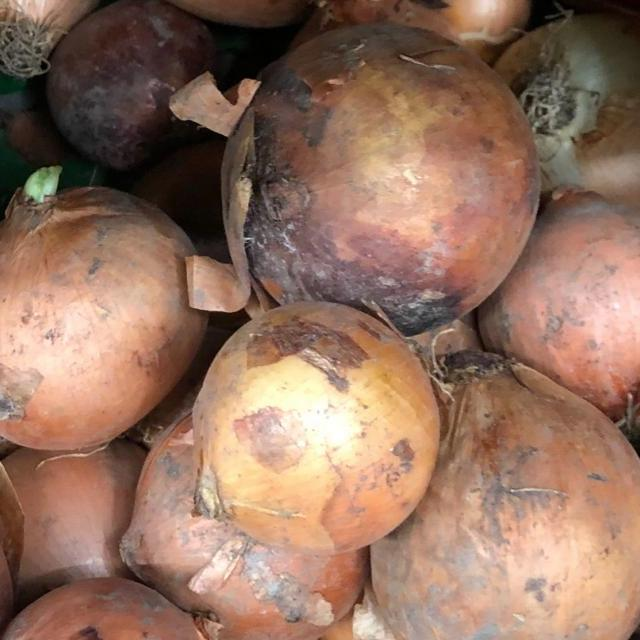onion: (222, 5, 550, 335), (200, 282, 445, 552), (0, 150, 207, 460), (0, 562, 227, 640), (0, 0, 117, 87)
